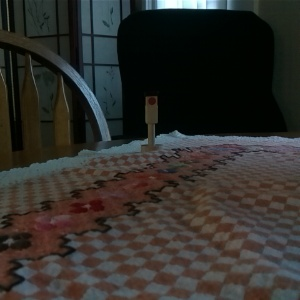traffic light red: (139, 89, 165, 154)
